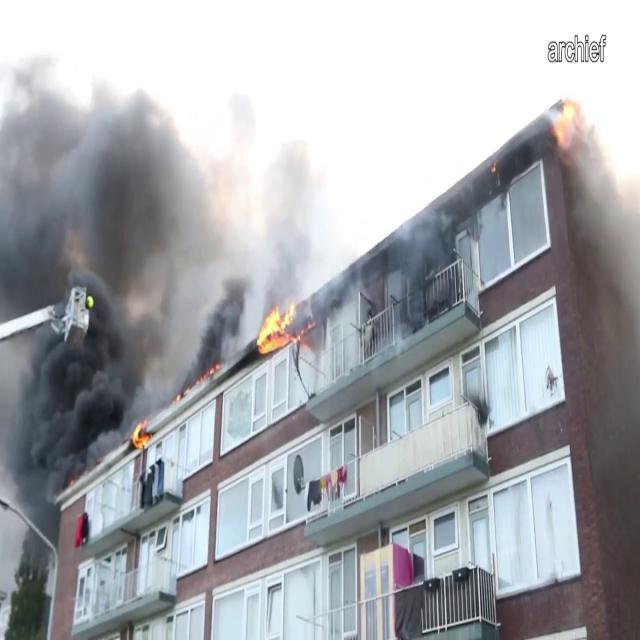Fire: (254, 294, 302, 352), (552, 95, 580, 142)
Smoke: (0, 24, 324, 407), (554, 88, 640, 622)
